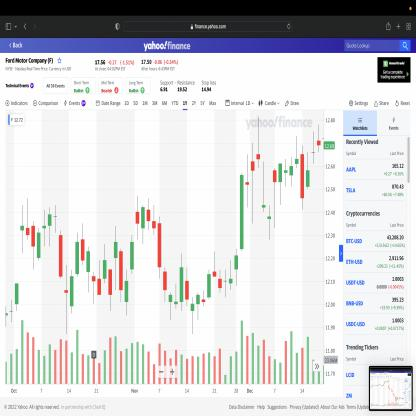Bearish: 3 Black Crows: (151, 201, 168, 304), (146, 194, 163, 281)
